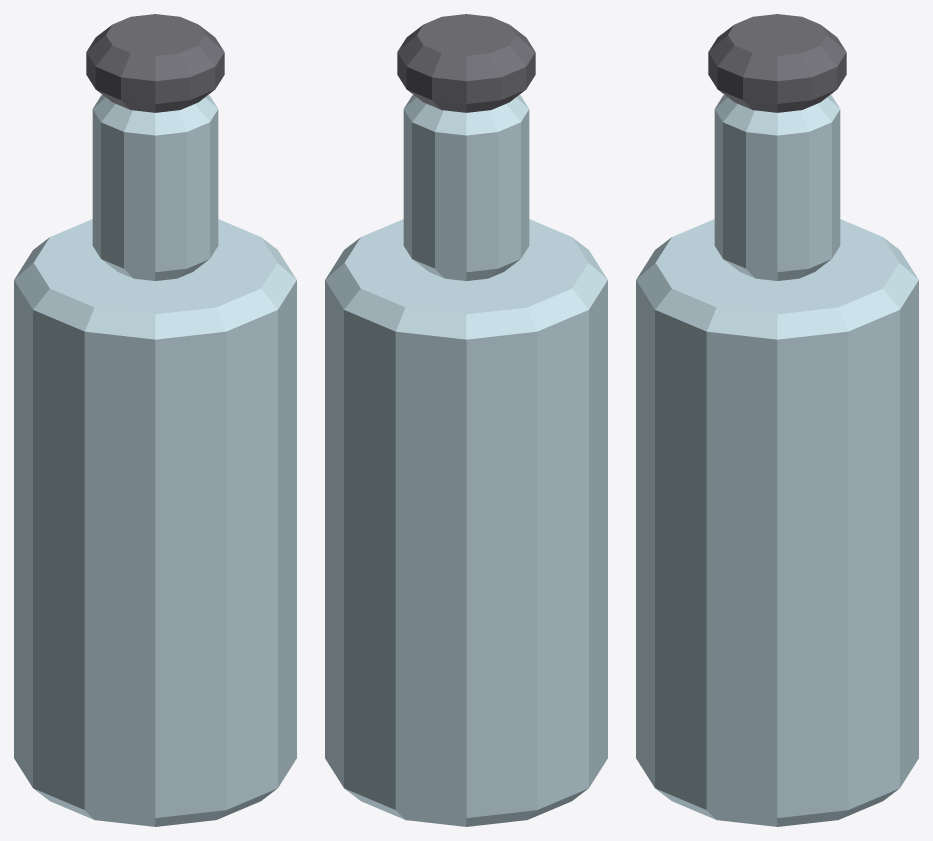
Rendered from SM_Bottle_01.fbx.
3 views of the same model, side by side, from view 1: azimuth 30°, elevation 25°; view 2: azimuth 150°, elevation 25°; view 3: azimuth 270°, elevation 25° (orthographic).
Parts seen in each view (by area): view 1: Bottle_01; view 2: Bottle_01; view 3: Bottle_01.
Boxes of the visible parts, left/top/right/bottom form: Bottle_01: left=14, top=14, right=296, bottom=826; Bottle_01: left=325, top=14, right=607, bottom=826; Bottle_01: left=636, top=14, right=918, bottom=826.
Size of the model in its own units: 9 by 26 by 9.
